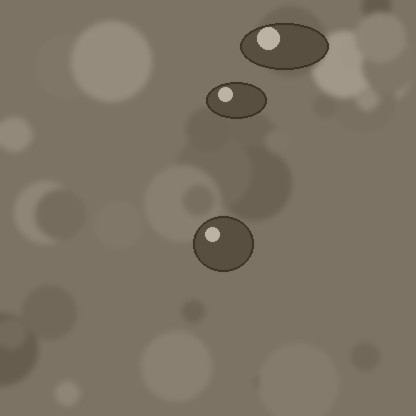gota: (240, 25, 328, 73), (193, 218, 253, 276), (206, 83, 266, 121)
